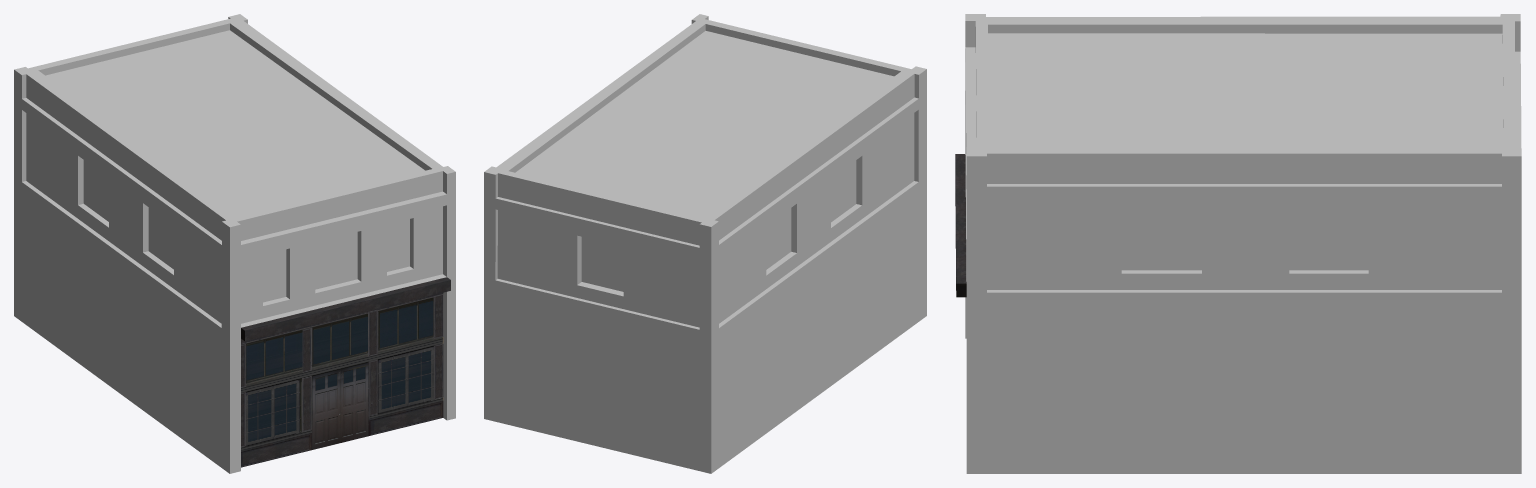
3 views of the same model, side by side, from view 1: azimuth 30°, elevation 25°; view 2: azimuth 150°, elevation 25°; view 3: azimuth 270°, elevation 25° (orthographic). The views are drawn at different scales.
Visible parts, largest first — view 1: B12 (2); view 2: B12 (2); view 3: B12 (2).
Boxes of the visible parts, bbox=[...] form: B12 (2): bbox=[14, 14, 455, 473]; B12 (2): bbox=[484, 14, 926, 473]; B12 (2): bbox=[955, 14, 1521, 473].
Bounding box in the file's own units: 1406 × 1463 × 2365.
